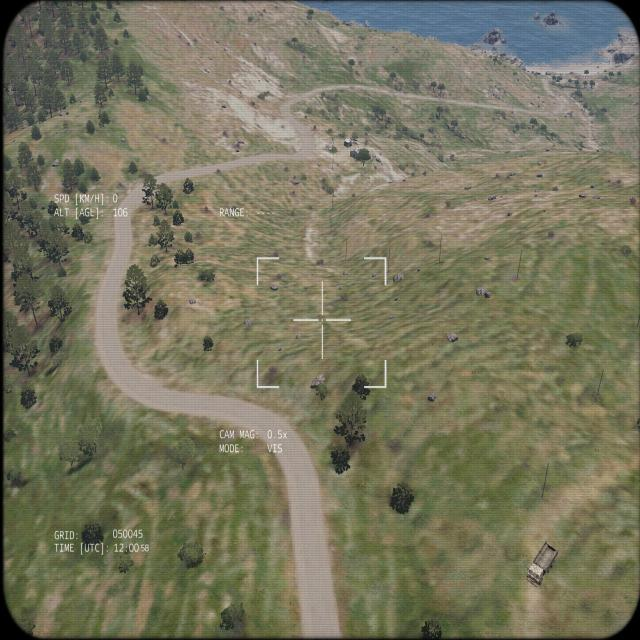truck: (526, 540, 558, 588)
